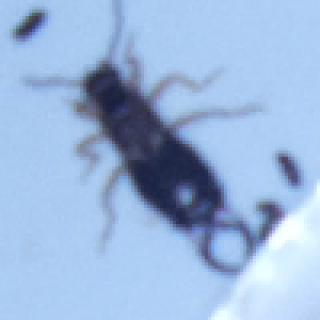earwig: (23, 0, 258, 283)
